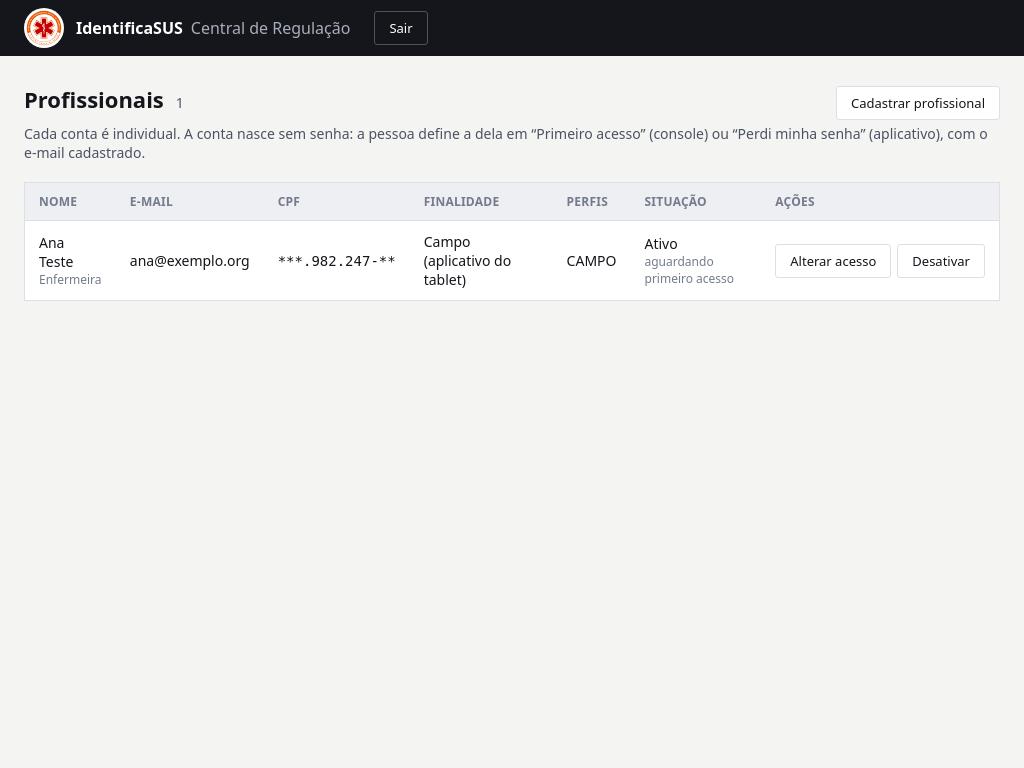
Test case: profissionais › CPF repetido: mostra a mensagem do servidor e mantém o formulário
Click the button "Cadastrar profissional". click: click(918, 103)
box: [836,86,1000,120]
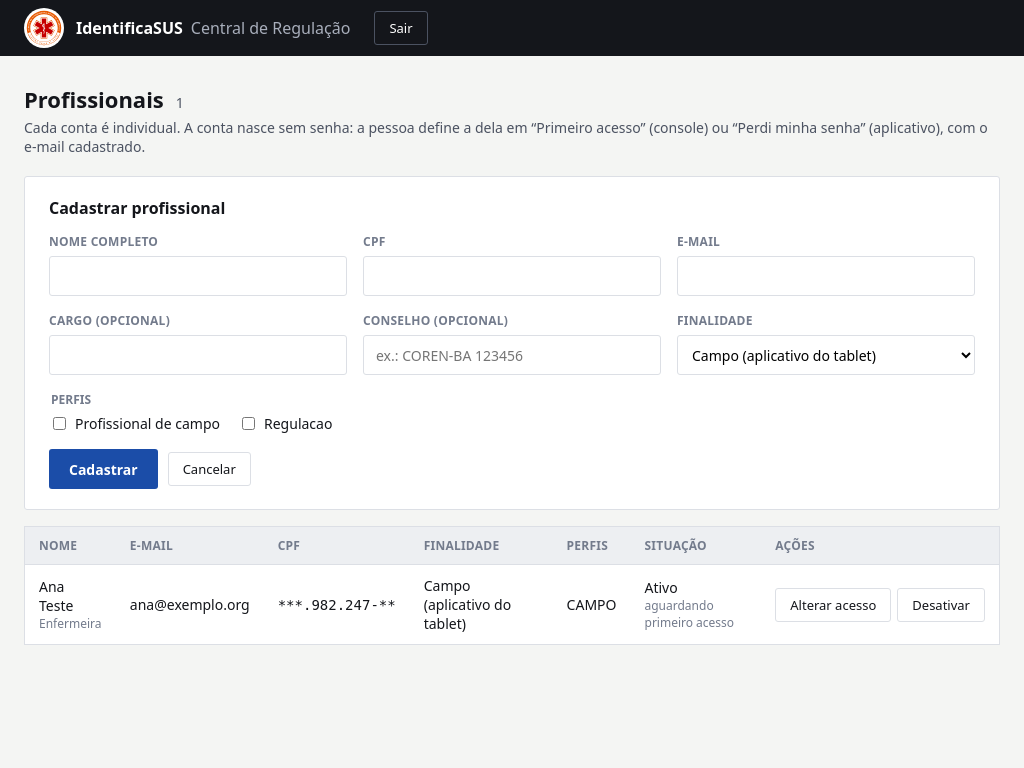
Type "Bruno Teste" into the field labelled "Nome completo". click: (198, 276)
box: [49,256,347,296]
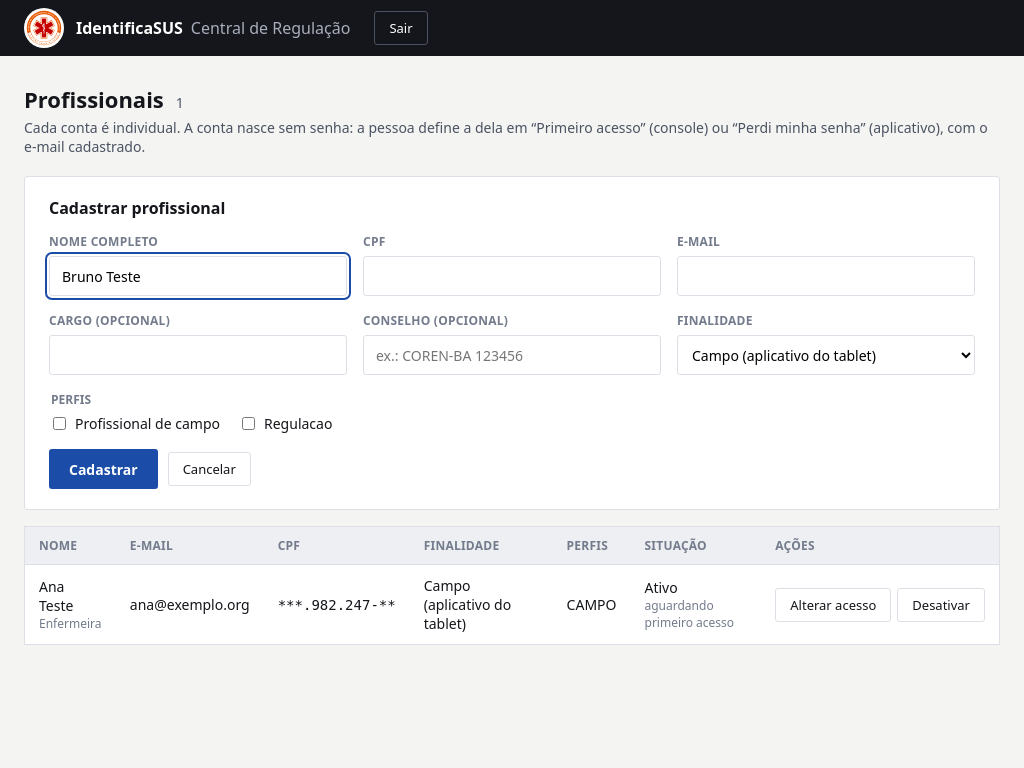
Type "52998224725" into the field labelled "CPF". click: (512, 276)
box: [363,256,661,296]
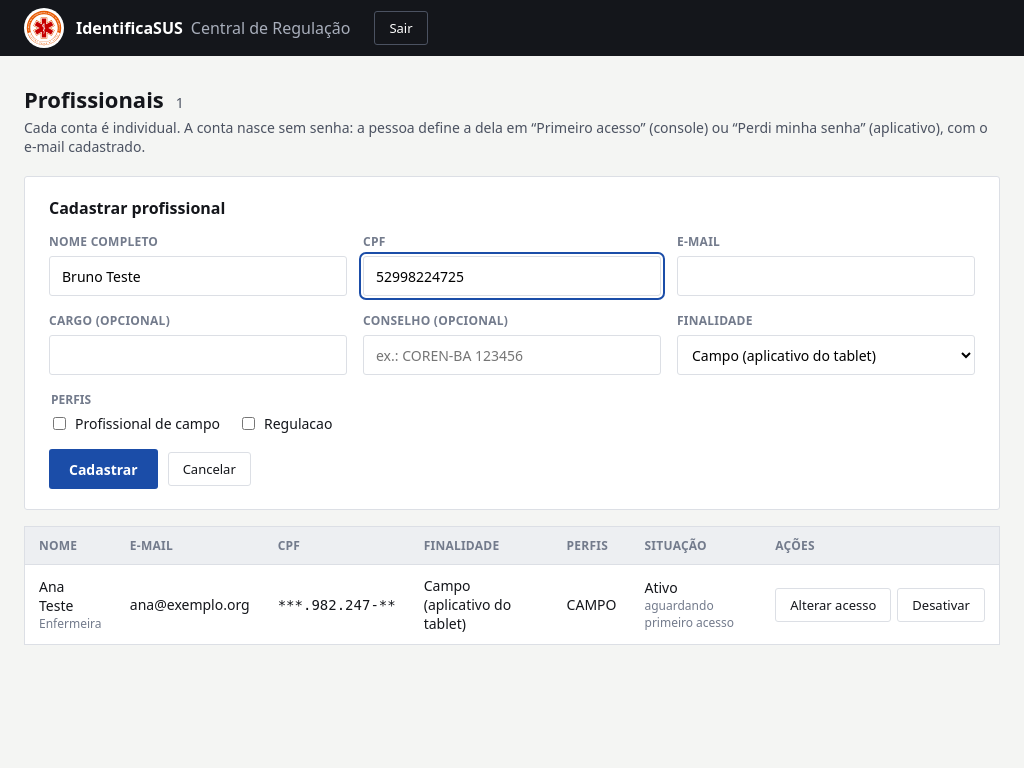
Type "bruno@exemplo.org" into the field labelled "E-mail". click: (826, 276)
box: [677,256,975,296]
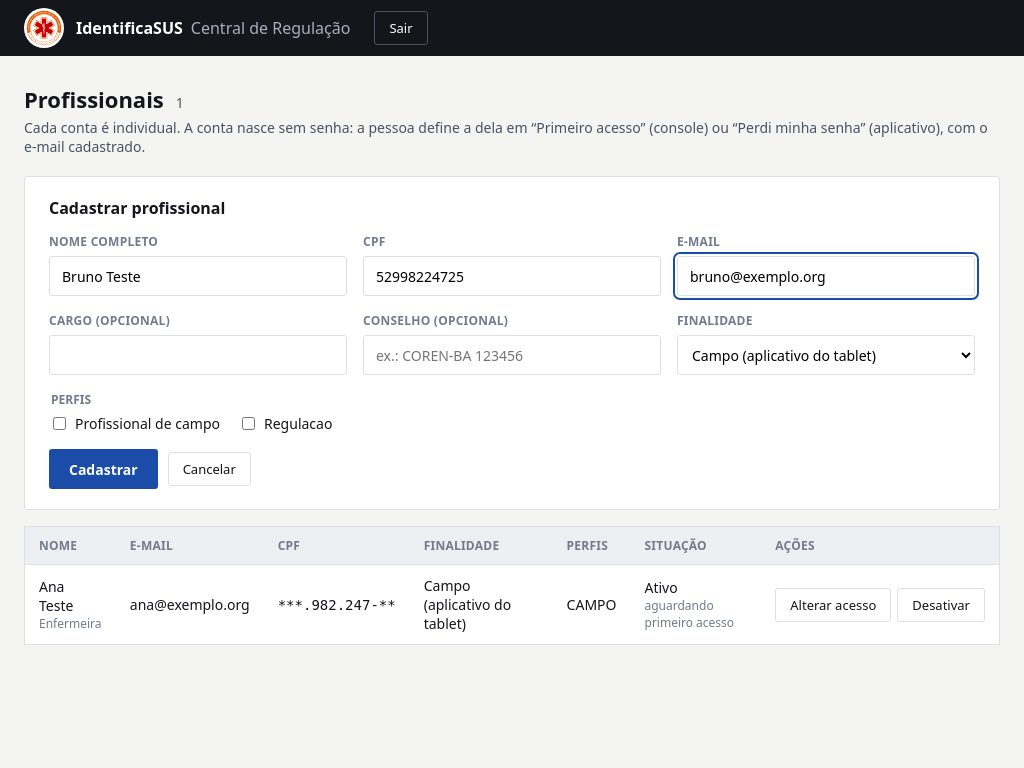
Click the button "Cadastrar". click: click(103, 469)
box: [49,449,158,489]
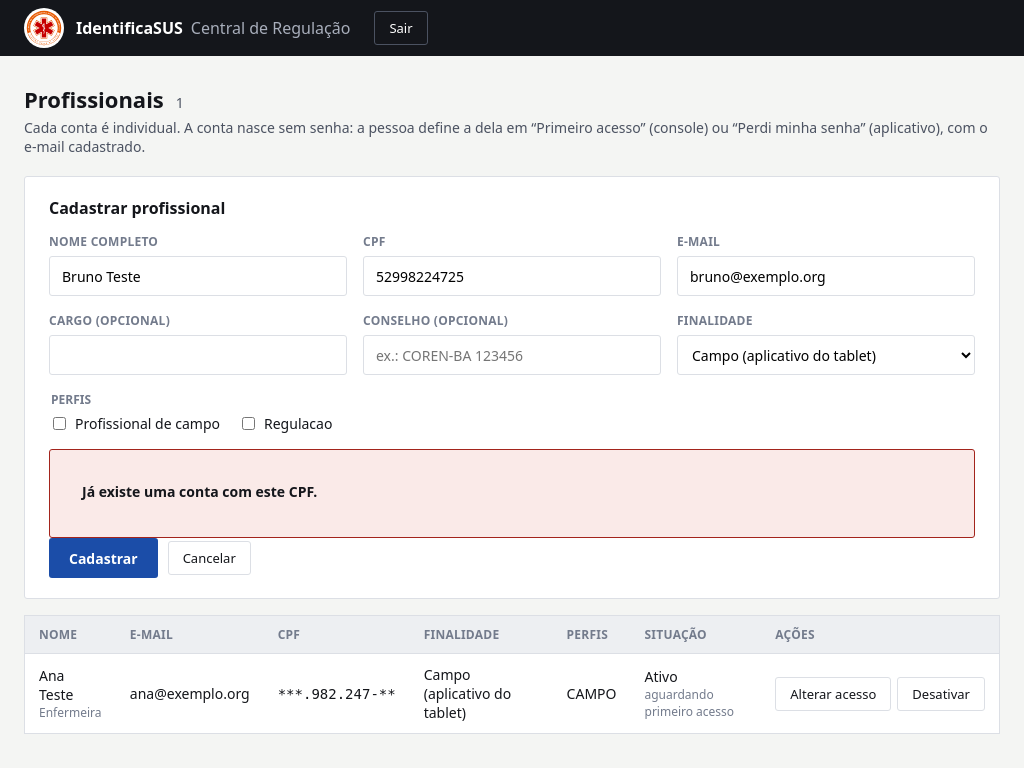
Result: the message reads "Já existe uma conta com este CPF." at [82,482,317,501]
